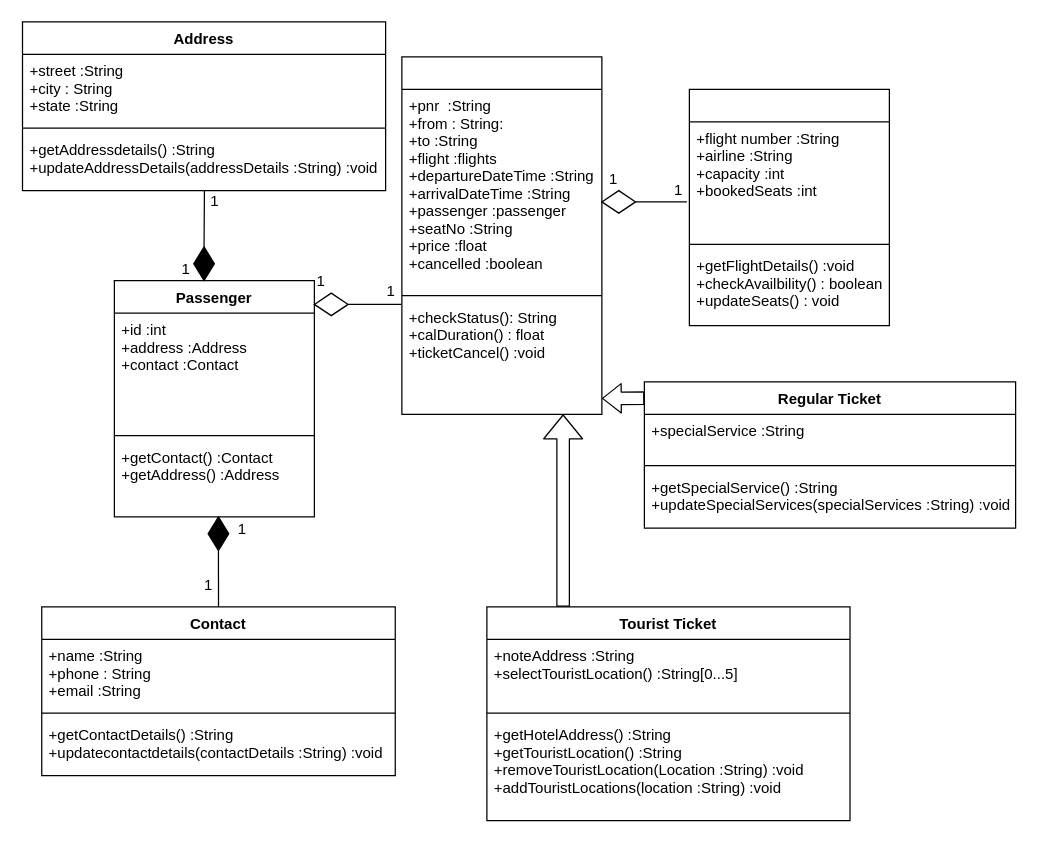
The diagram is 1038 pixels wide and 846 high, and some of its shapes have lost their labels. The shapes that lost their labels are listed below. From the top down, each one's box as (x1, y1, x2, y2) in pixels, then its label:
(688, 88, 889, 326): Flights
(401, 56, 602, 414): Tickets
